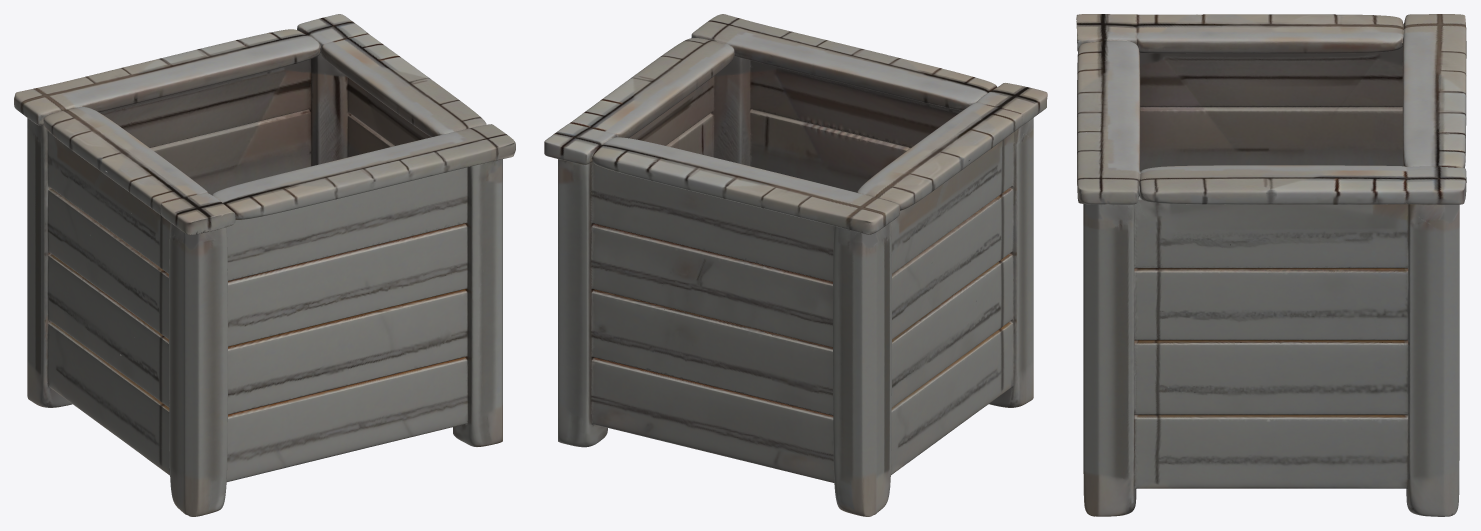
The model's file is Meshy_AI_Medium_Planters_0324194034_texture-v1.glb.
3 renders of one model, left to right at view 1: azimuth 30°, elevation 25°; view 2: azimuth 150°, elevation 25°; view 3: azimuth 270°, elevation 25°, orthographic. The views are drawn at different scales.
Visible parts, largest first — view 1: Mesh_0; view 2: Mesh_0; view 3: Mesh_0.
Boxes of the visible parts, x1,y1,x2,y2 form: Mesh_0: (14, 14, 515, 516); Mesh_0: (544, 14, 1047, 516); Mesh_0: (1076, 14, 1466, 516).
Bounding box in the file's own units: 1.04 × 0.9 × 0.959.
Materials: 1 (1 with a texture image).
